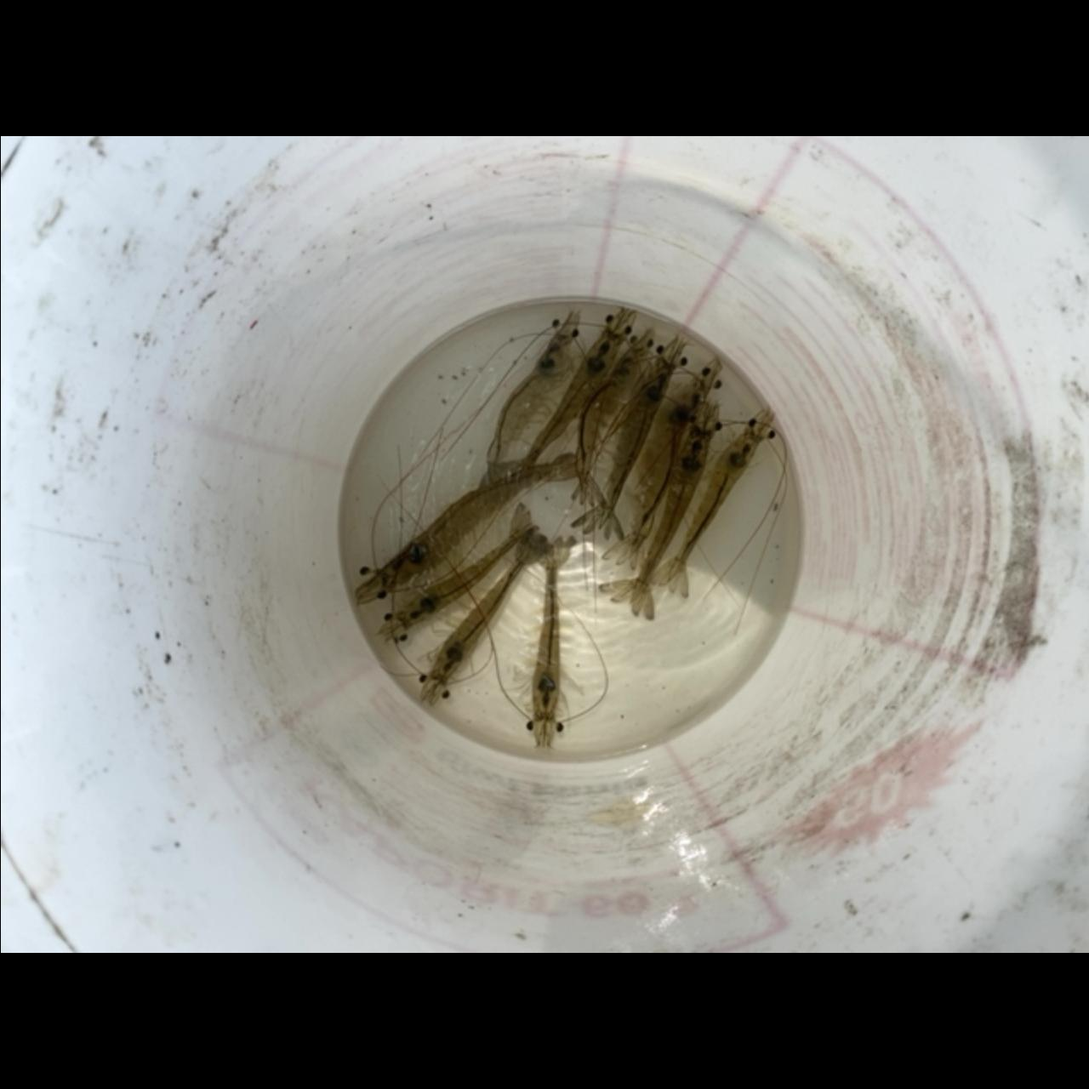top_shrimp: (376, 461, 571, 590), (513, 331, 619, 485), (430, 540, 534, 685), (398, 522, 532, 632), (627, 432, 709, 605), (483, 331, 571, 492), (666, 430, 756, 583), (629, 386, 704, 559), (597, 359, 671, 529), (574, 347, 636, 499), (531, 539, 561, 722)
